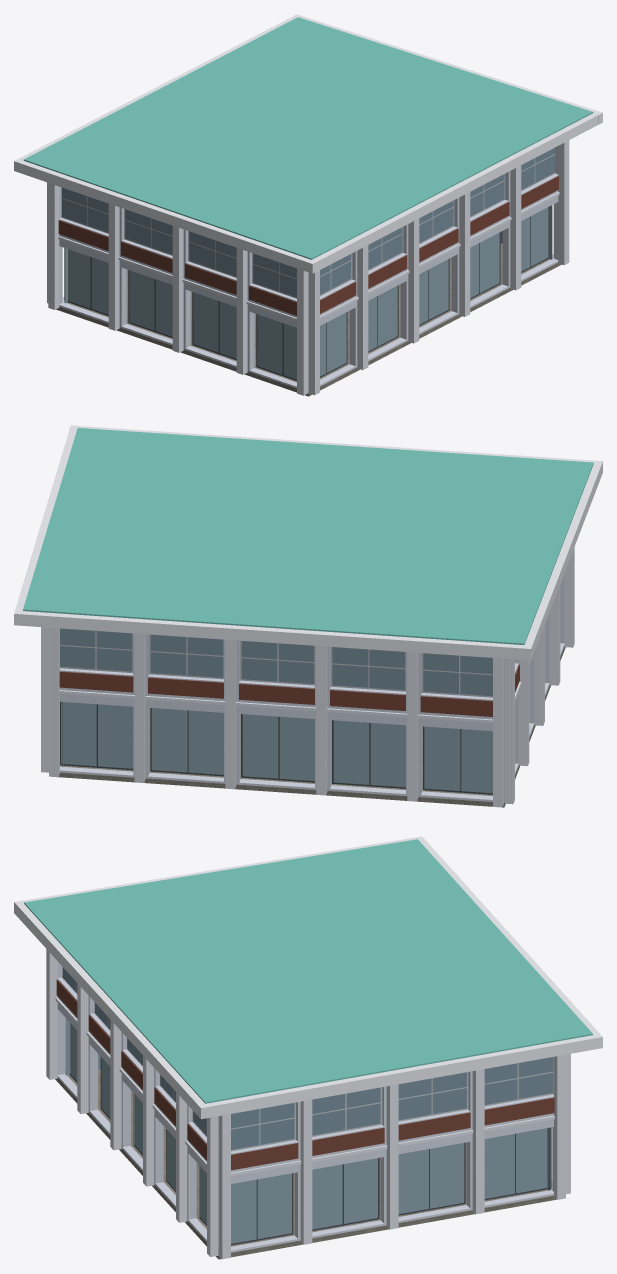
3 renders of one model, top to bottom at view 1: azimuth 30°, elevation 25°; view 2: azimuth 150°, elevation 25°; view 3: azimuth 270°, elevation 25°, orthographic. The views are drawn at different scales.
Visible parts, largest first — view 1: art-link__greenroof, art-link__pier, art-link__hallglass, art-link__white, art-link__fascia, art-link__glass, art-link__spandrel2, art-link__stone, art-link__darkframe, art-link__frame; view 2: art-link__greenroof, art-link__hallglass, art-link__pier, art-link__glass, art-link__white, art-link__fascia, art-link__spandrel2, art-link__stone, art-link__frame, art-link__darkframe; view 3: art-link__greenroof, art-link__pier, art-link__hallglass, art-link__white, art-link__fascia, art-link__glass, art-link__spandrel2, art-link__stone, art-link__frame, art-link__darkframe.
Part boxes in pixels (bbox=[...]): art-link__greenroof: bbox=[23, 17, 593, 259]; art-link__pier: bbox=[47, 140, 569, 395]; art-link__hallglass: bbox=[65, 205, 551, 379]; art-link__white: bbox=[59, 146, 558, 392]; art-link__fascia: bbox=[14, 14, 602, 273]; art-link__glass: bbox=[61, 147, 554, 297]; art-link__spandrel2: bbox=[58, 176, 558, 315]; art-link__stone: bbox=[56, 243, 561, 396]; art-link__darkframe: bbox=[64, 205, 552, 380]; art-link__frame: bbox=[61, 153, 555, 298]; art-link__greenroof: bbox=[23, 428, 593, 644]; art-link__hallglass: bbox=[61, 701, 492, 793]; art-link__pier: bbox=[41, 547, 574, 807]; art-link__glass: bbox=[60, 628, 492, 696]; art-link__white: bbox=[60, 573, 564, 802]; art-link__fascia: bbox=[14, 425, 602, 660]; art-link__spandrel2: bbox=[59, 664, 519, 716]; art-link__stone: bbox=[58, 646, 565, 807]; art-link__frame: bbox=[60, 631, 492, 697]; art-link__darkframe: bbox=[60, 701, 492, 794]; art-link__greenroof: bbox=[24, 839, 592, 1103]; art-link__pier: bbox=[46, 949, 570, 1259]; art-link__hallglass: bbox=[65, 1018, 550, 1243]; art-link__white: bbox=[57, 961, 553, 1254]; art-link__fascia: bbox=[14, 836, 602, 1119]; art-link__glass: bbox=[62, 967, 552, 1149]; art-link__spandrel2: bbox=[56, 979, 554, 1170]; art-link__stone: bbox=[55, 1070, 556, 1259]; art-link__frame: bbox=[62, 976, 553, 1151]; art-link__darkframe: bbox=[65, 1018, 551, 1245].
Bounding box in the file's own units: 28.82 × 8.42 × 26.39.
11 materials, 3 textured.
